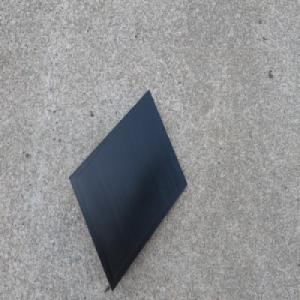PlasticPart: (67, 88, 188, 292)
